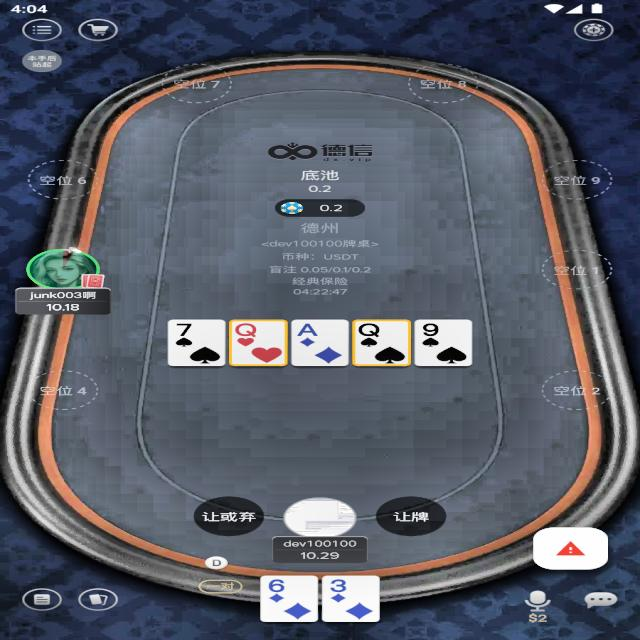3f: (326, 577, 351, 594)
6f: (265, 578, 287, 593)
7s: (172, 320, 198, 337)
9s: (420, 321, 442, 338)
Af: (296, 322, 320, 338)
Qh: (232, 322, 258, 338)
Qs: (356, 321, 382, 338)
